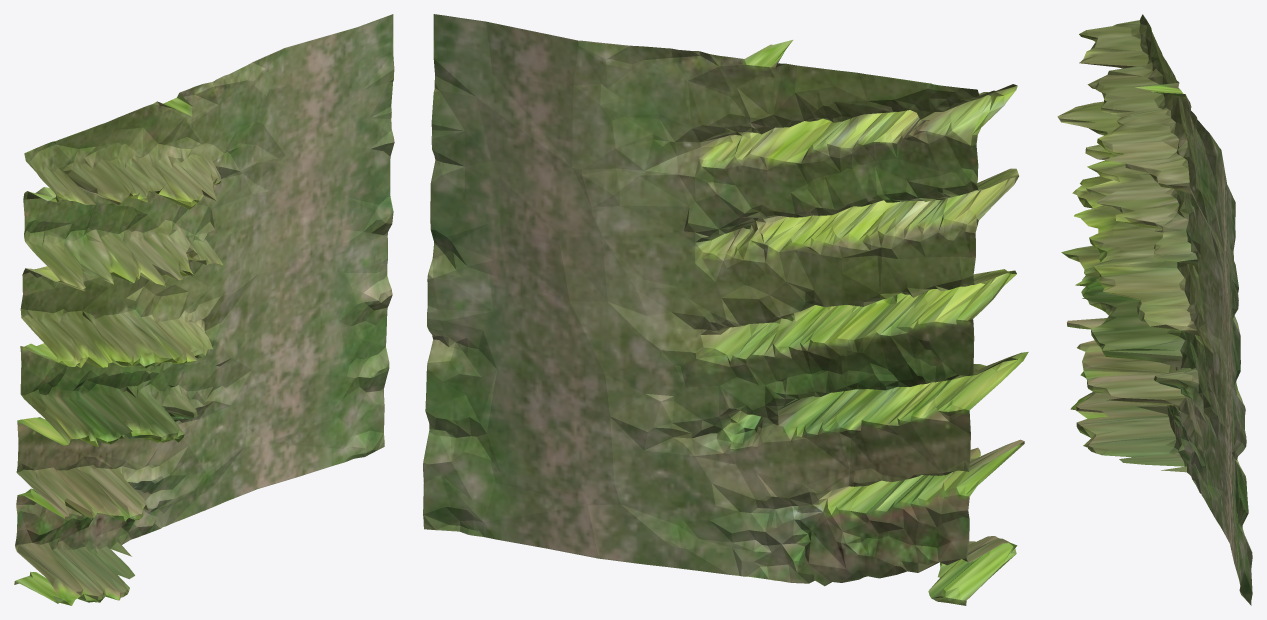
Rendered from map_230_10.obj.
3 renders of one model, left to right at view 1: azimuth 30°, elevation 25°; view 2: azimuth 150°, elevation 25°; view 3: azimuth 270°, elevation 25°, orthographic. The views are drawn at different scales.
Parts seen in each view (by area): view 1: grp1; view 2: grp1; view 3: grp1.
Part boxes in pixels (x1=…): grp1: x1=14, y1=14, x2=394, y2=605; grp1: x1=423, y1=14, x2=1028, y2=605; grp1: x1=1057, y1=14, x2=1252, y2=605.
Bounding box in the file's own units: 10 × 10 × 4.38.
Materials: 1 (1 with a texture image).
